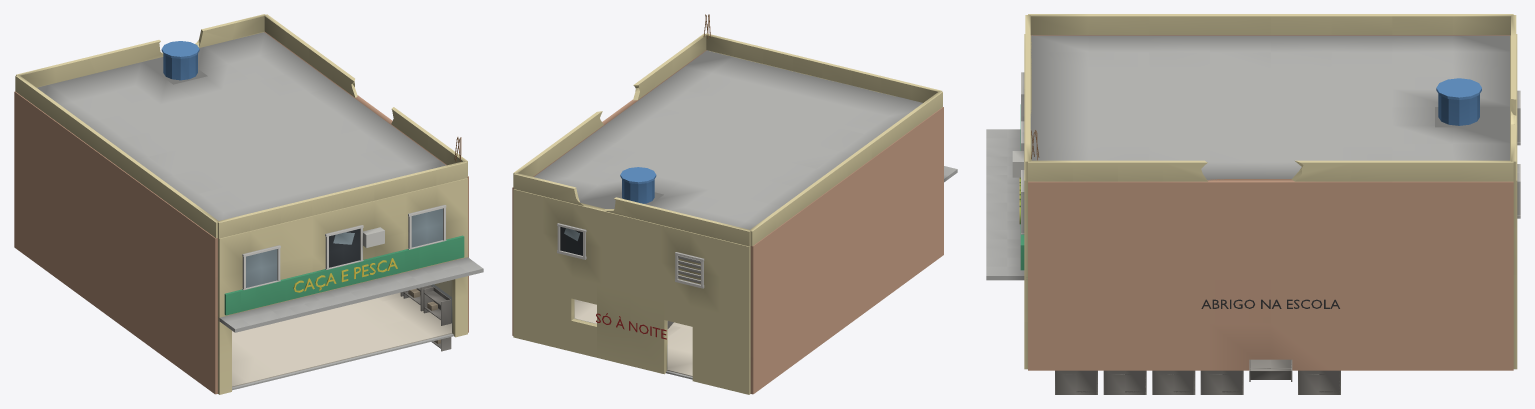
Rendered from sobrado_10.glb.
3 renders of one model, left to right at view 1: azimuth 30°, elevation 25°; view 2: azimuth 150°, elevation 25°; view 3: azimuth 270°, elevation 25°, orthographic. The views are drawn at different scales.
Visible parts, largest first — view 1: longe, ext, dentro, detalhe; view 2: ext, longe, detalhe, dentro; view 3: ext, longe, dentro, detalhe.
Part boxes in pixels (x1,y1,x2,y2): longe: (15,14,483,332); ext: (14,31,468,394); dentro: (232,280,453,390); detalhe: (153,41,461,290); ext: (512,50,943,394); longe: (513,33,957,246); detalhe: (557,14,710,339); dentro: (574,299,692,379); ext: (1024,34,1517,370); longe: (986,14,1516,280); dentro: (1055,359,1340,394); detalhe: (1012,72,1520,308).
Size of what is drawn, in the model's own units: 10.73 by 8.39 by 15.4.
